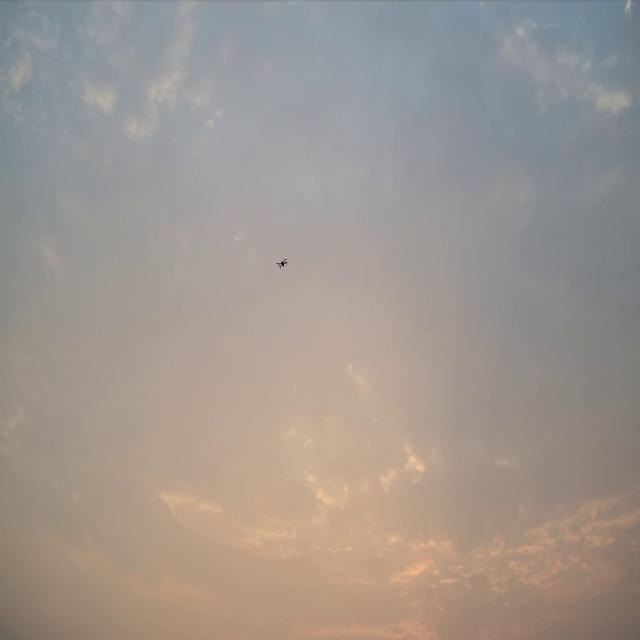UAV: (276, 258, 288, 269)
